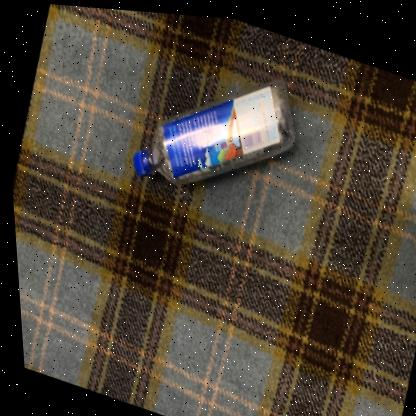Plastic: (129, 75, 292, 182)
